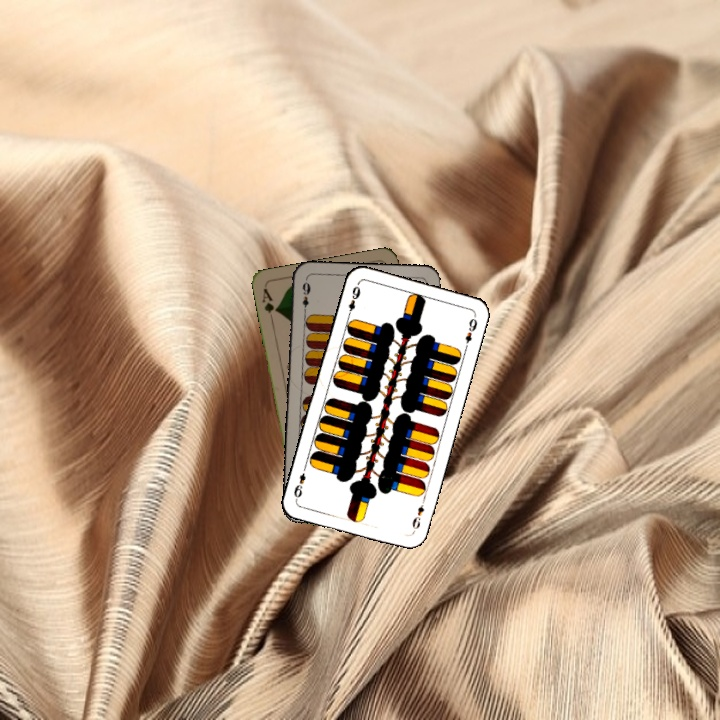E9: (408, 495, 428, 534), (343, 282, 363, 320), (298, 278, 313, 317)
GA: (258, 284, 280, 324)
